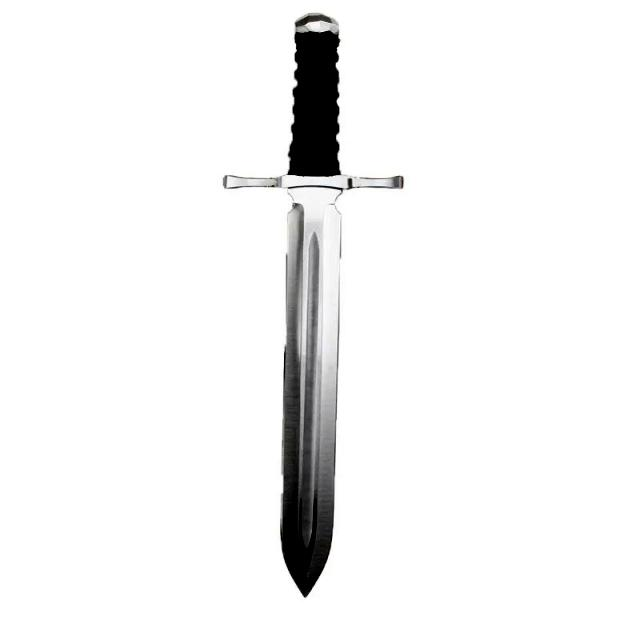short sword: (202, 4, 416, 615)
